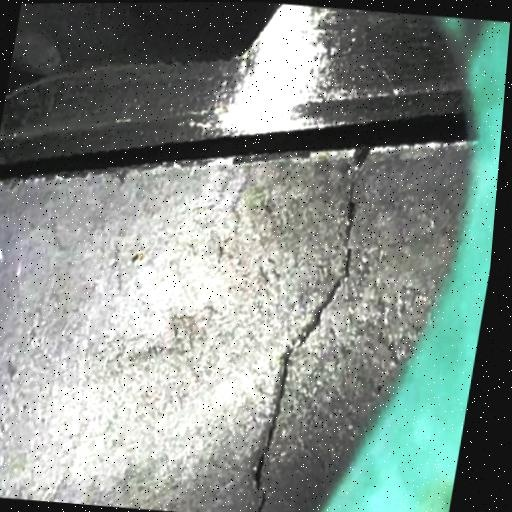crack: (161, 187, 401, 512), (133, 272, 383, 512)
